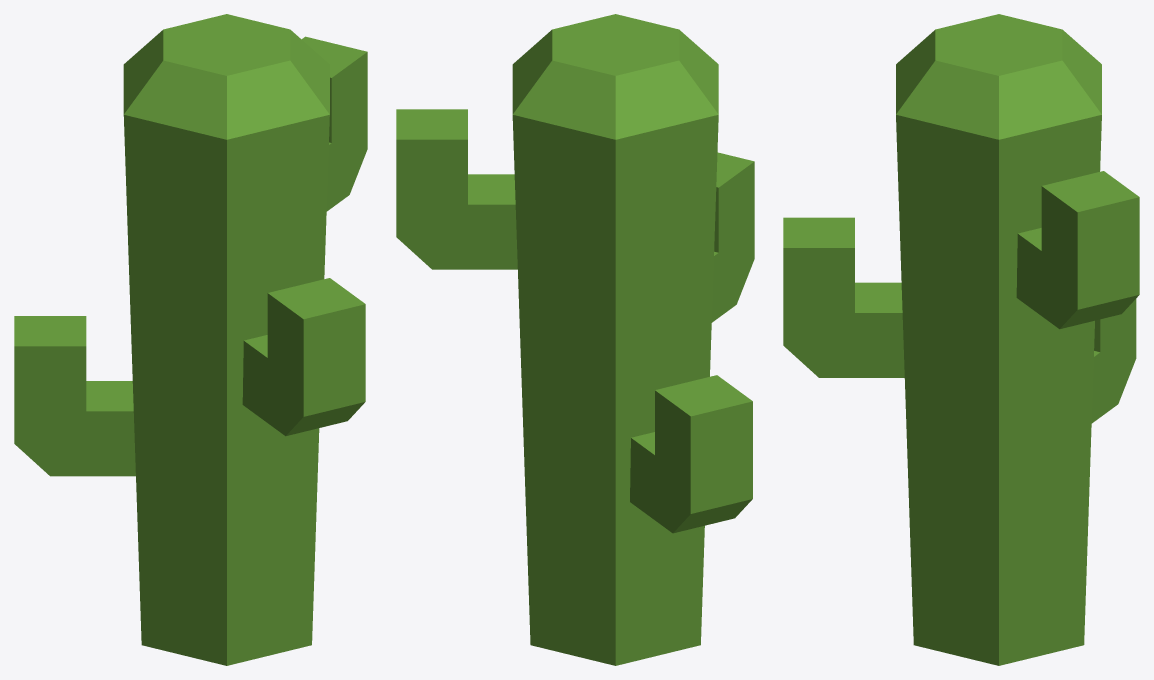
File: cactus_short.glb
3 renders of one model, left to right at view 1: azimuth 30°, elevation 25°; view 2: azimuth 150°, elevation 25°; view 3: azimuth 270°, elevation 25°, orthographic.
Parts seen in each view (by area): view 1: cactus_short; view 2: cactus_short; view 3: cactus_short.
Boxes of the visible parts, <box> form: cactus_short: <box>14,14,367,665</box>; cactus_short: <box>396,14,754,665</box>; cactus_short: <box>783,14,1139,665</box>.
Bounding box in the file's own units: 0.3417 × 0.533 × 0.2972.
